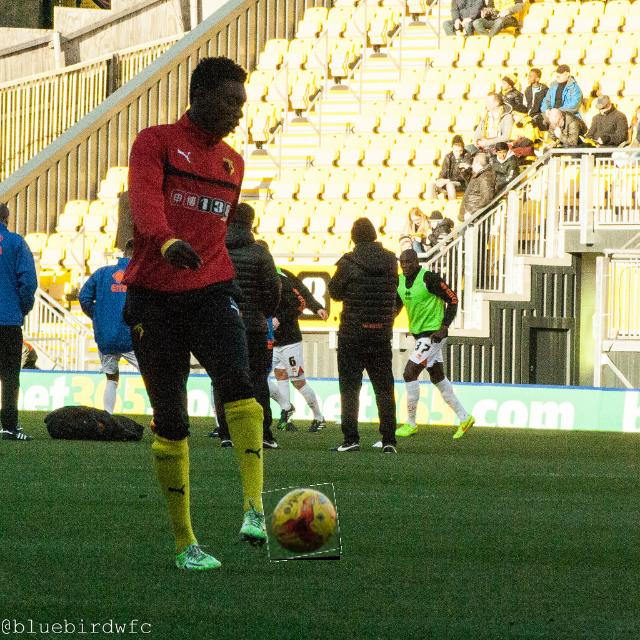Football: (264, 486, 340, 560)
